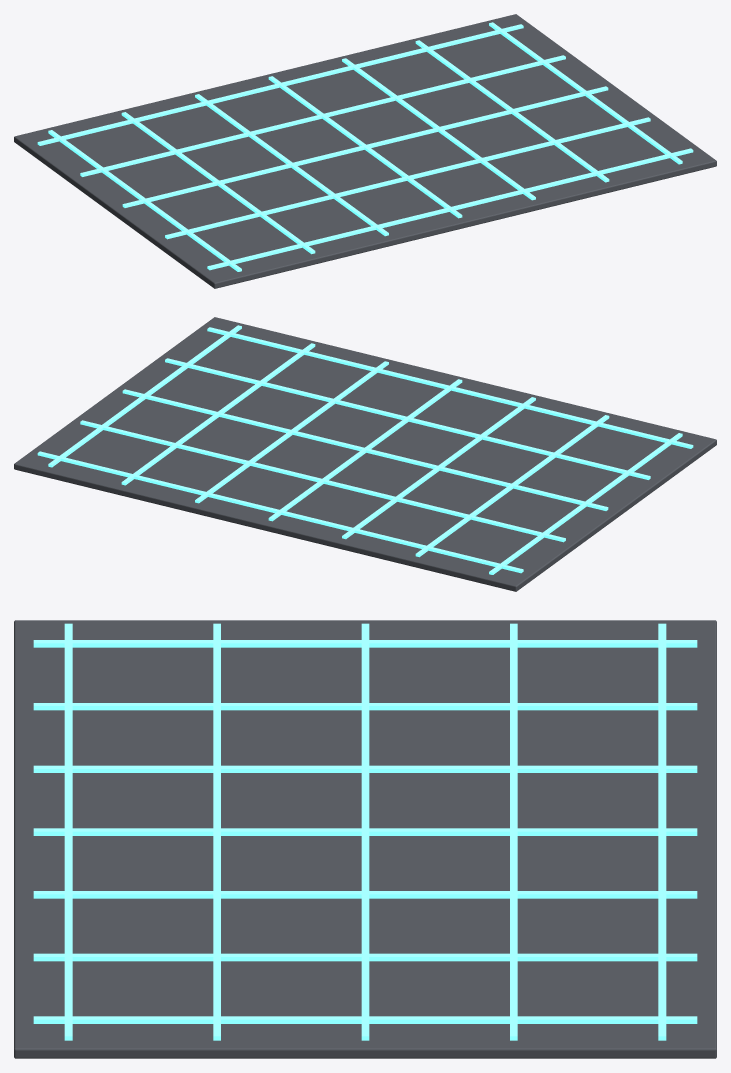
Rendered from rug_neon_grid.glb.
The picture shows the model from 3 angles, top to bottom: view 1: azimuth 30°, elevation 25°; view 2: azimuth 150°, elevation 25°; view 3: azimuth 270°, elevation 25°; orthographic projection. The views are drawn at different scales.
Visible parts, largest first — view 1: GD_rug_neon_grid__m0, GD_rug_neon_grid__m1; view 2: GD_rug_neon_grid__m0, GD_rug_neon_grid__m1; view 3: GD_rug_neon_grid__m0, GD_rug_neon_grid__m1.
Boxes of the visible parts, bbox=[...] form: GD_rug_neon_grid__m0: bbox=[14, 14, 716, 288]; GD_rug_neon_grid__m1: bbox=[37, 22, 693, 271]; GD_rug_neon_grid__m0: bbox=[14, 317, 716, 591]; GD_rug_neon_grid__m1: bbox=[37, 325, 693, 574]; GD_rug_neon_grid__m0: bbox=[14, 620, 716, 1058]; GD_rug_neon_grid__m1: bbox=[33, 623, 697, 1040].
Size of the model in its own units: 2.6 by 0.042 by 1.8.
